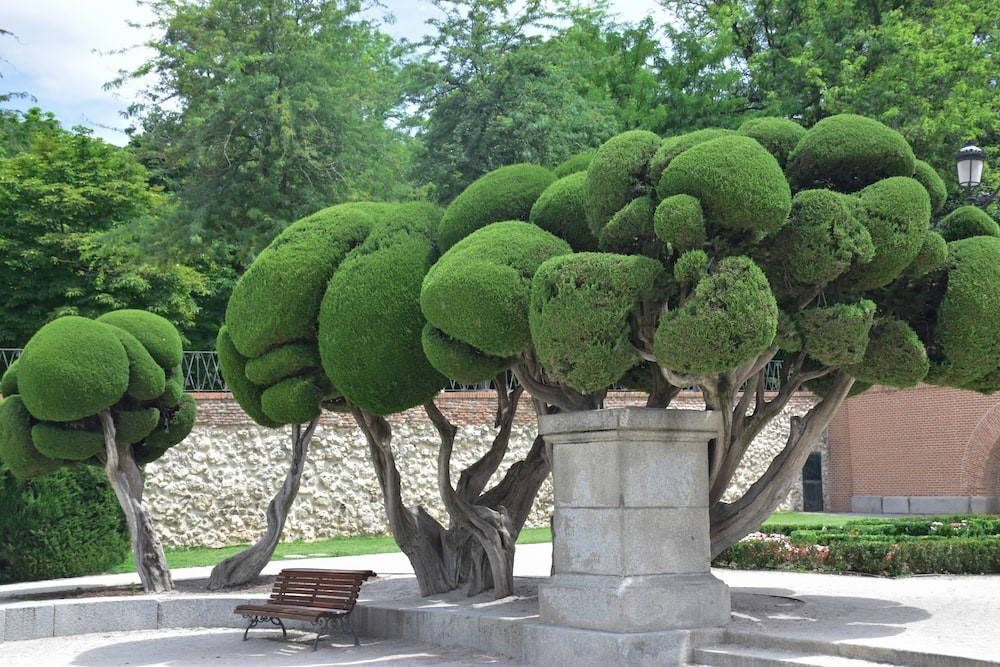tree: (355, 410, 540, 602), (701, 377, 851, 558), (209, 425, 318, 591), (105, 440, 175, 593)
